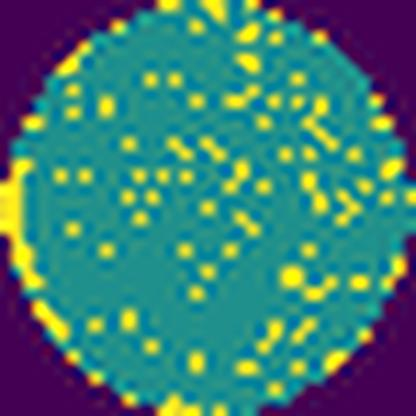Edge-Loc: (0, 158, 47, 290), (32, 299, 76, 345), (150, 387, 206, 416)
